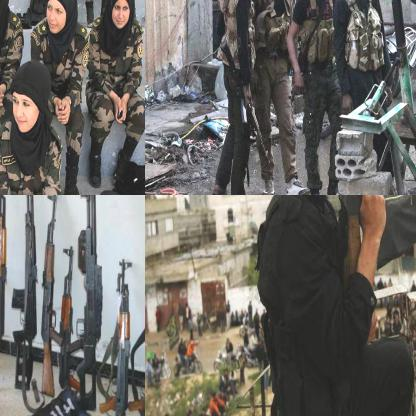rifle: (67, 195, 106, 412), (338, 195, 411, 295), (220, 40, 272, 166), (11, 195, 40, 395), (39, 195, 67, 396), (99, 254, 133, 415), (59, 244, 84, 393), (127, 259, 144, 415), (0, 195, 13, 390)
